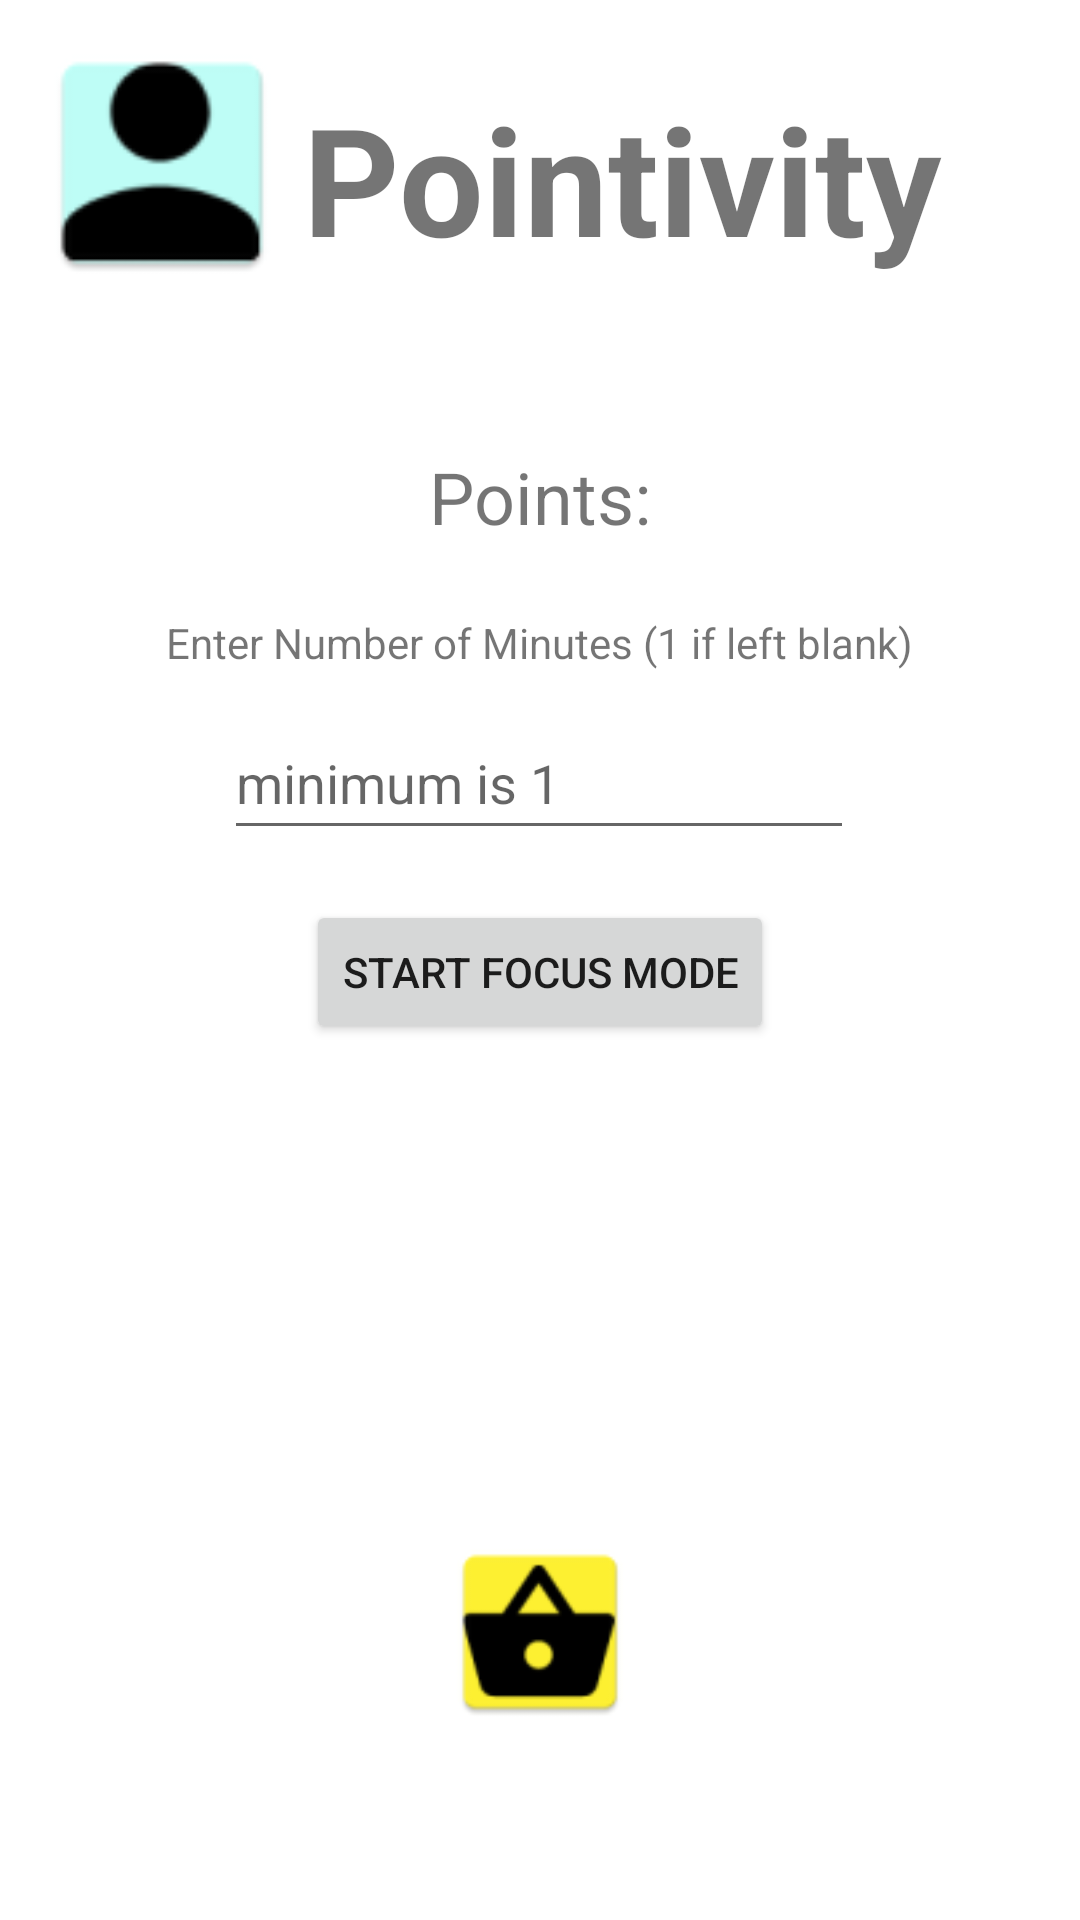

Icons on this 1080 x 1920 Android screen, each with its box as (x1, y1, x2, y2):
profile: (60, 61, 263, 268)
shopping bag: (462, 1554, 618, 1713)
